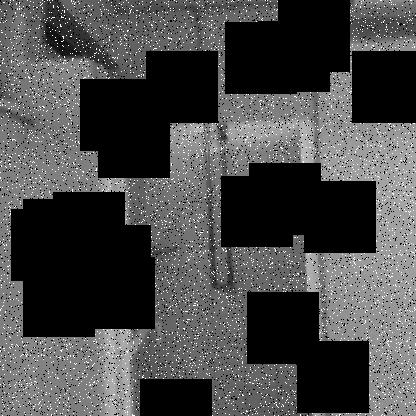Porte: (92, 117, 329, 415)
